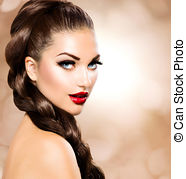face: (7, 1, 107, 127)
